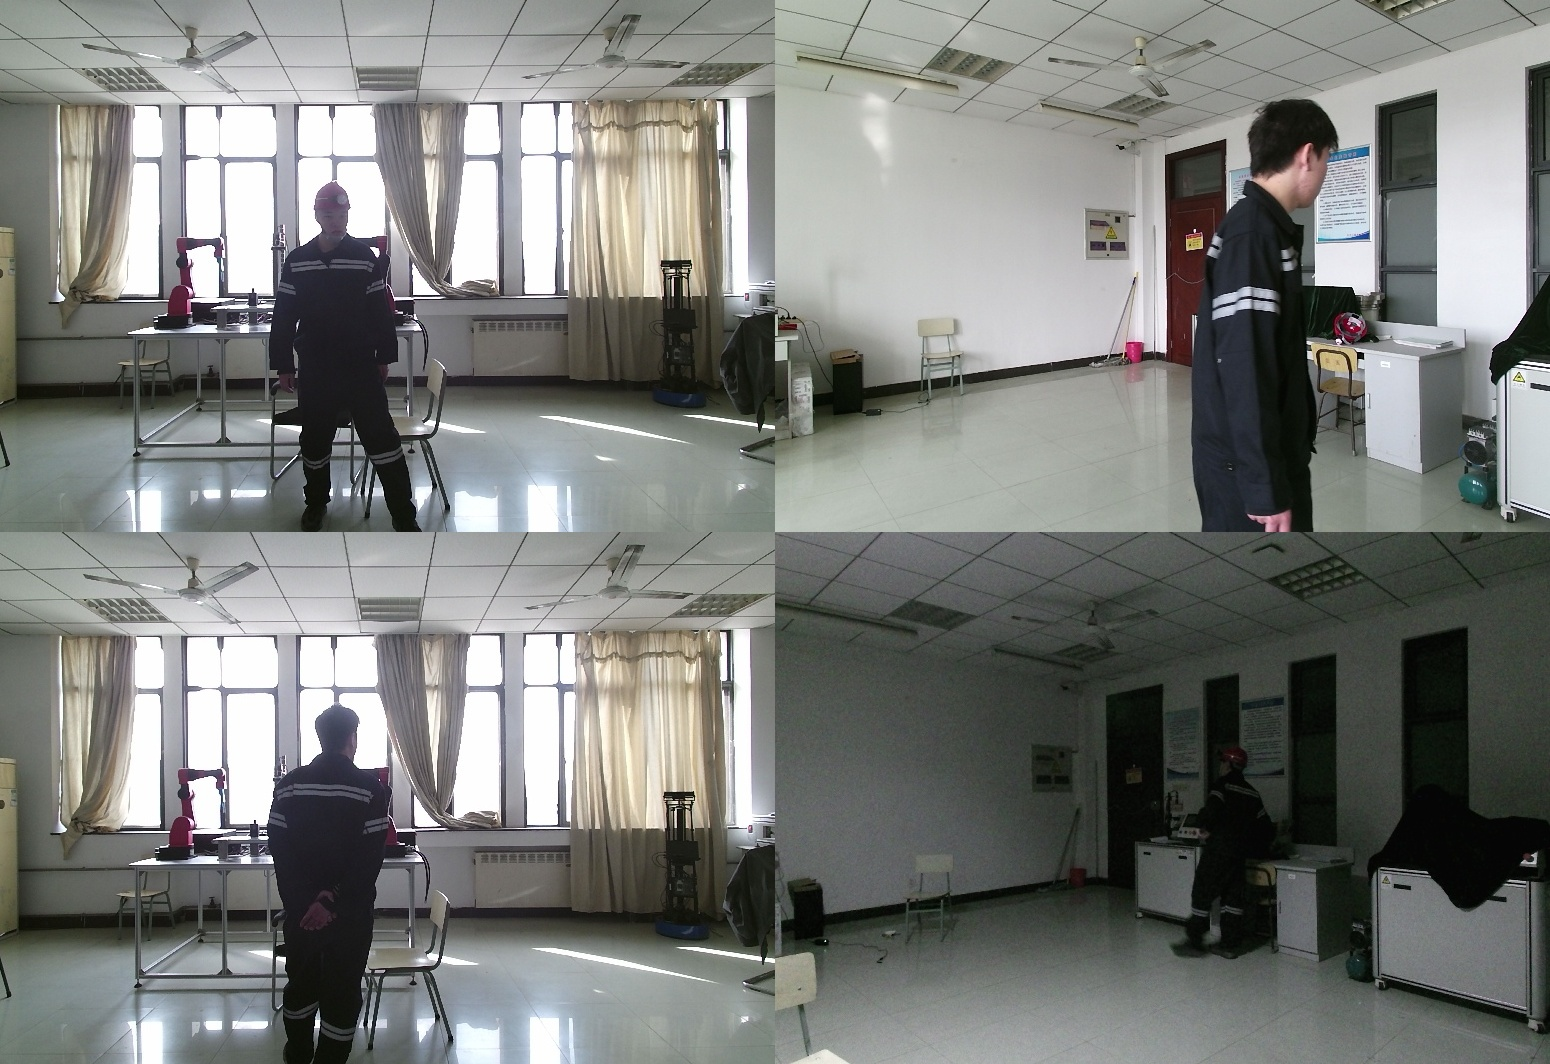person: (1187, 100, 1335, 532), (265, 705, 413, 1064), (272, 181, 422, 532), (1195, 746, 1274, 960)
